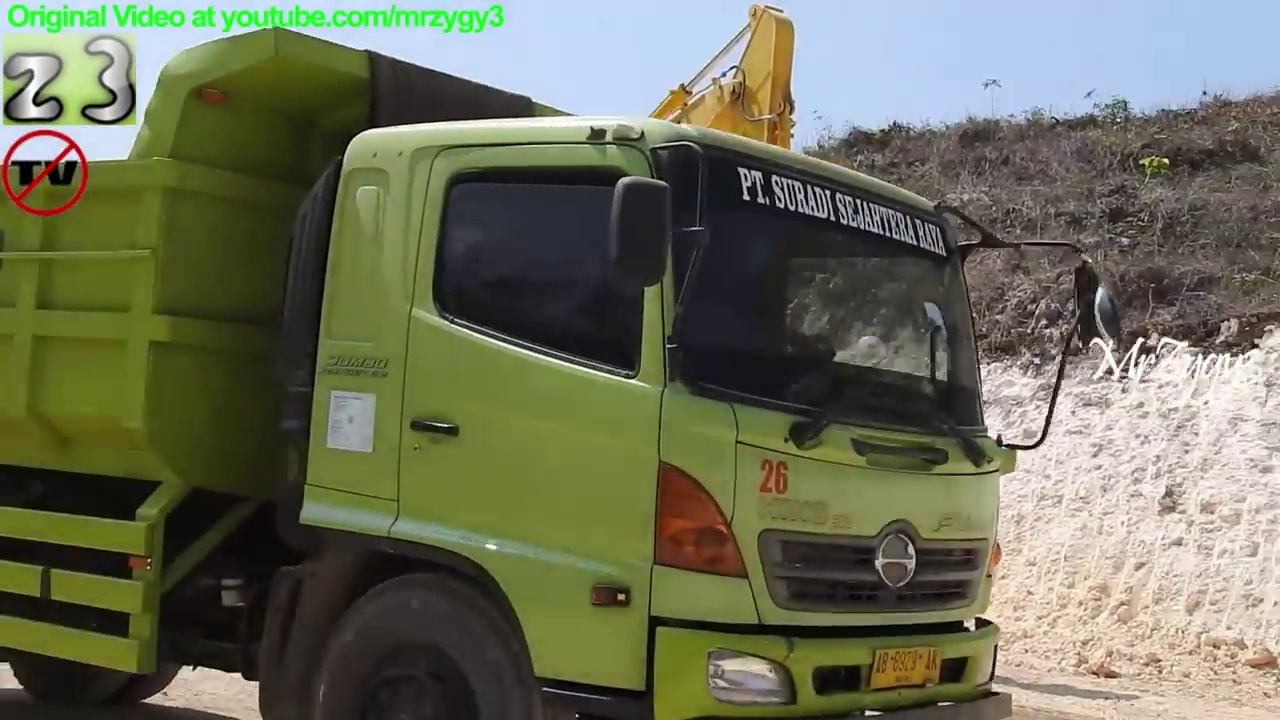excavator: (413, 2, 860, 689)
truck: (1, 24, 1136, 720)
